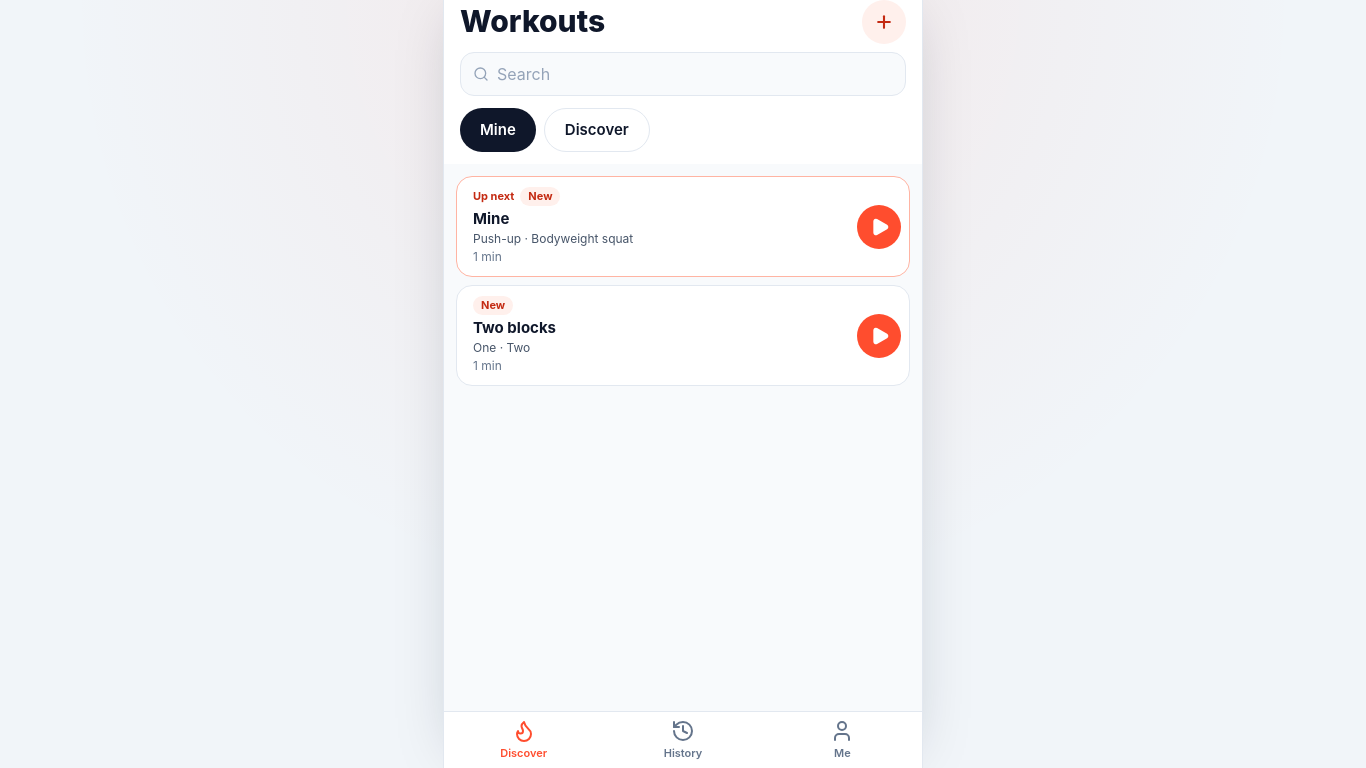
where a session was started from › is saved for a Mine card that is not Up next
Click the button "Two blocks New One · Two 1 min".
click(515, 327)  # box [457,286,849,385]
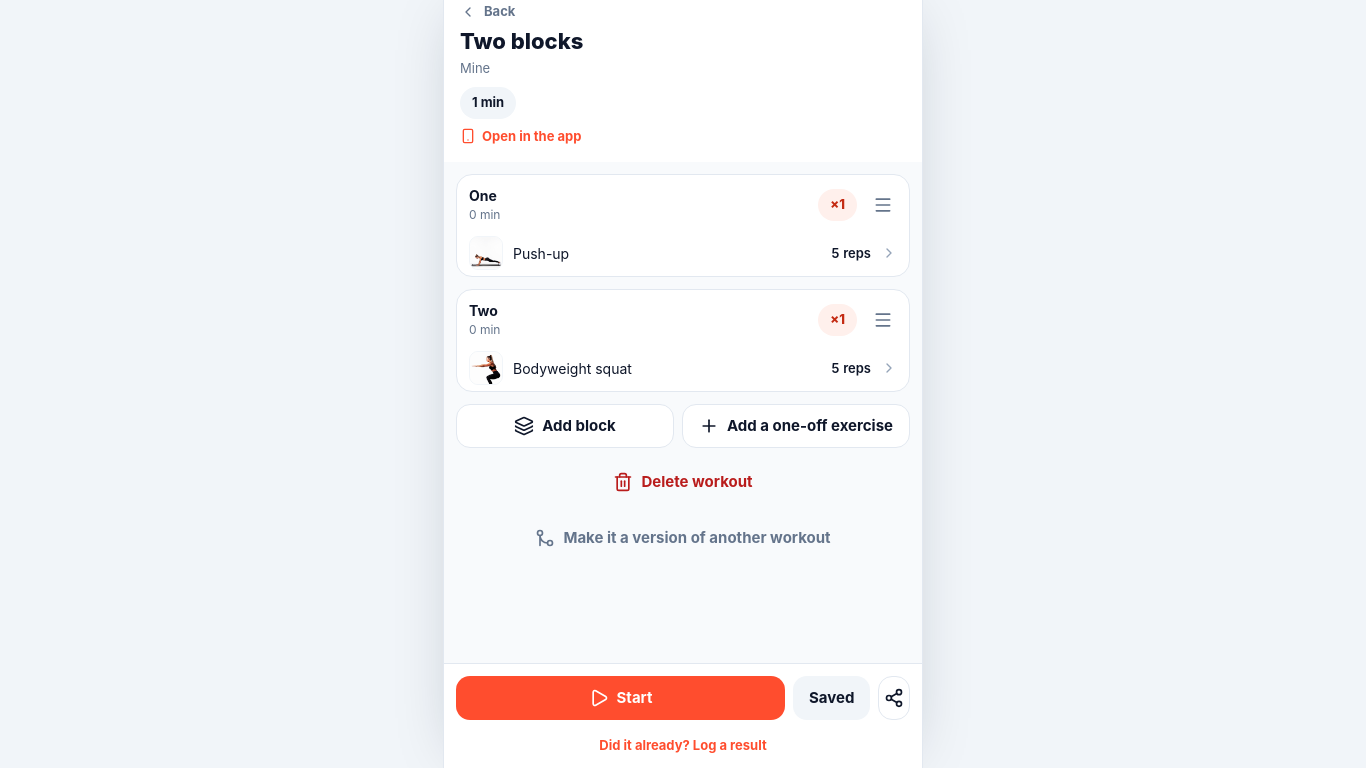
Click the button "Start".
click(620, 698)  # box [456,676,785,720]
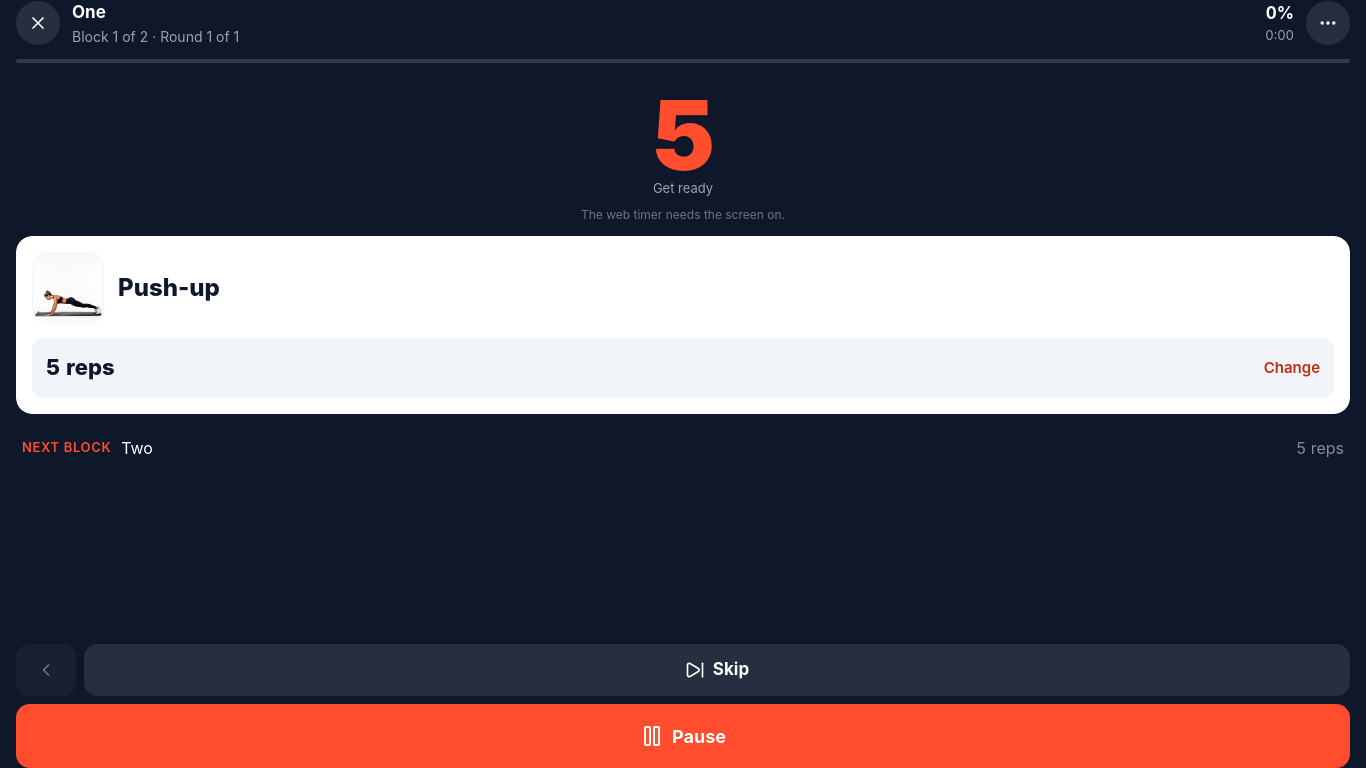
Click the button "Skip".
click(717, 670)  # box [84,644,1350,696]
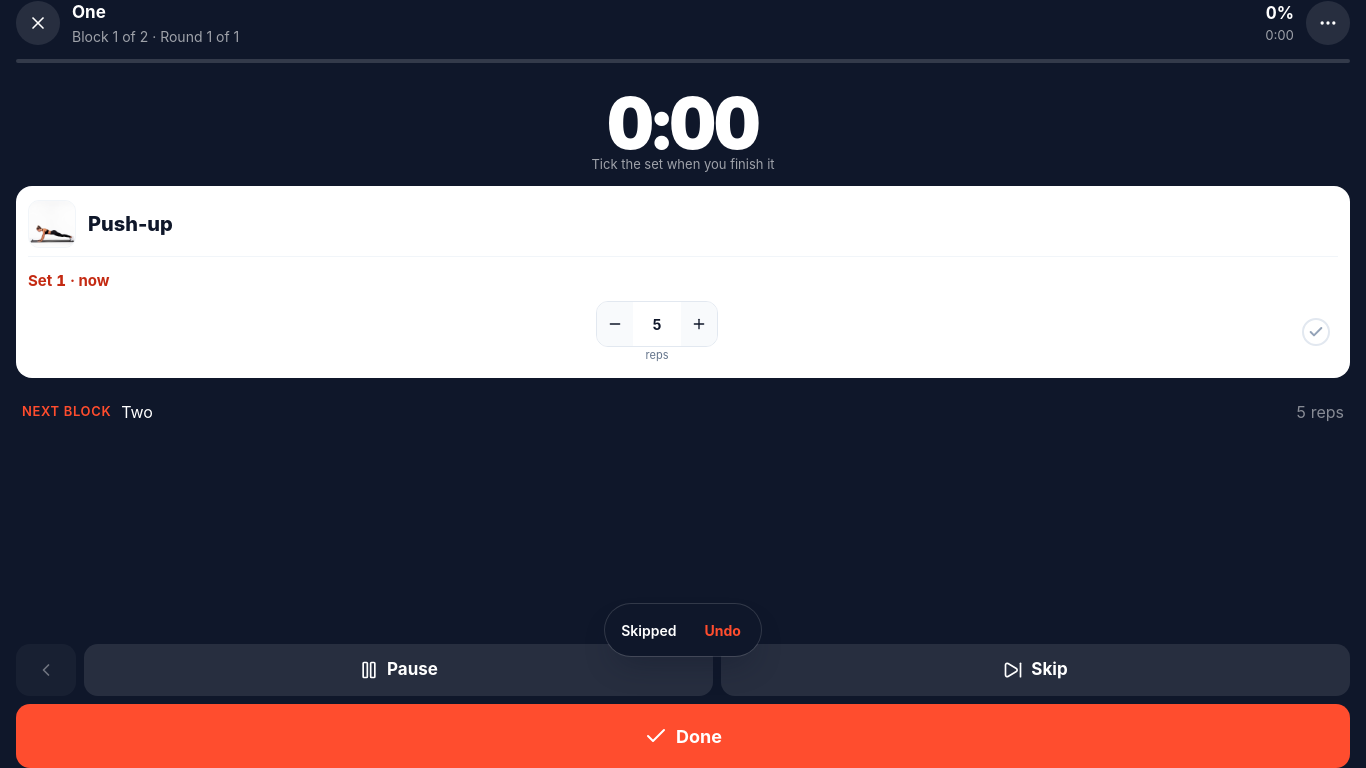
Click the button named "More".
click(1328, 23)  # box [1306,1,1350,45]
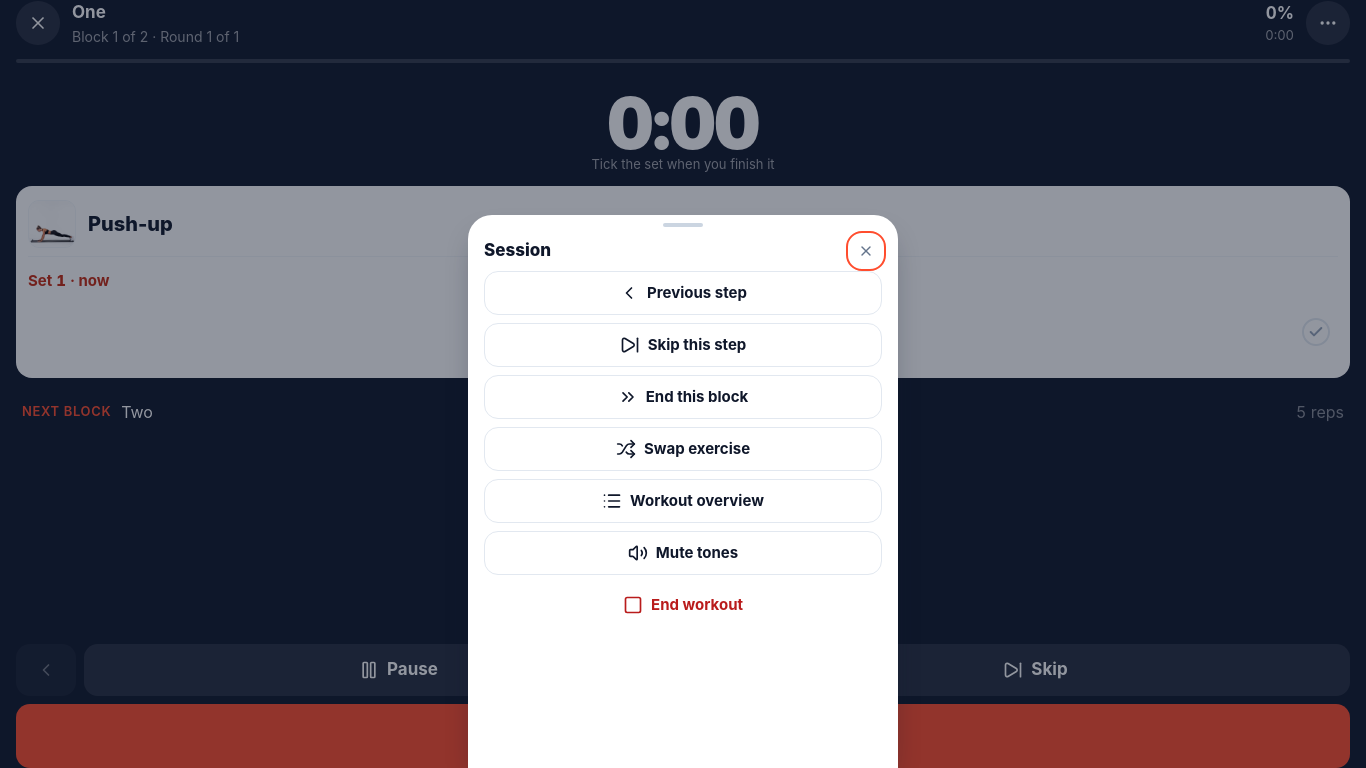
Click the button "End workout".
click(683, 605)  # box [484,583,882,627]
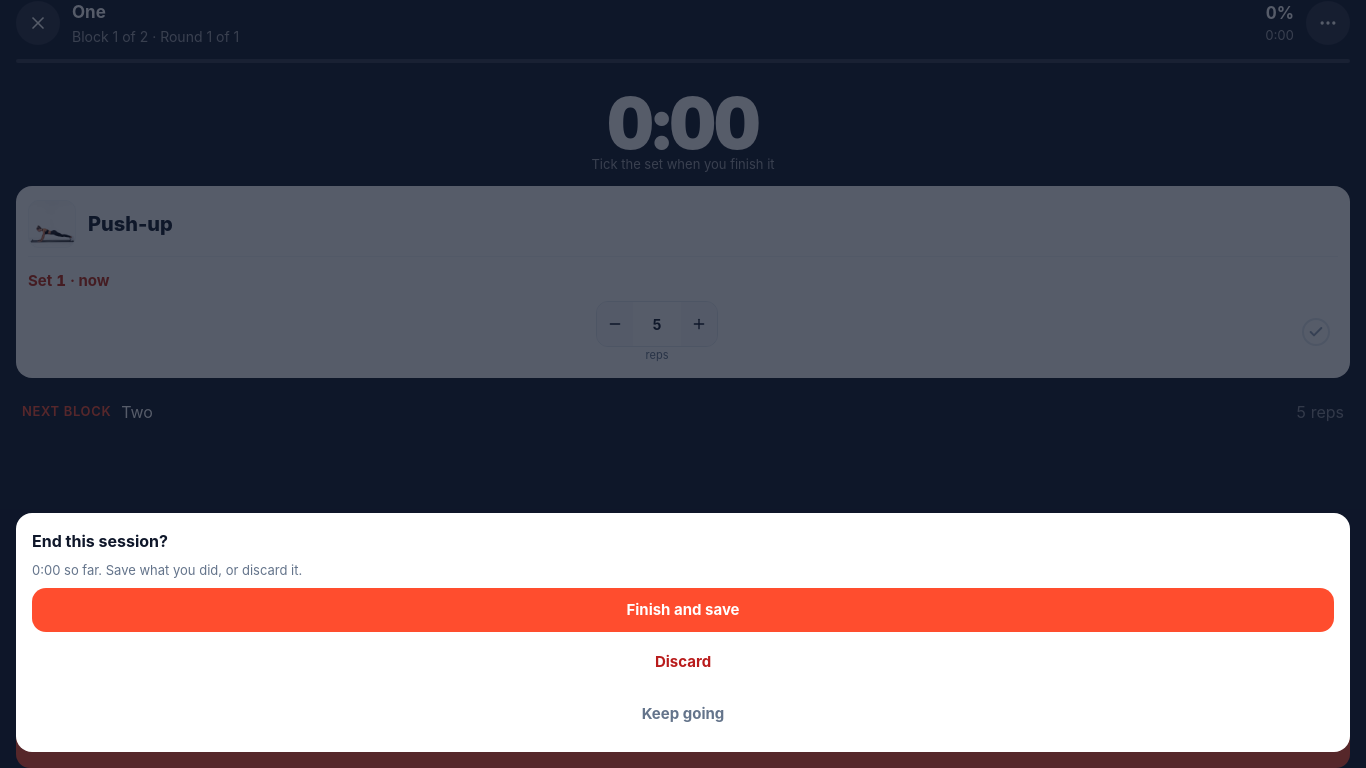
Click the button "Finish and save".
click(683, 610)  # box [32,588,1334,632]
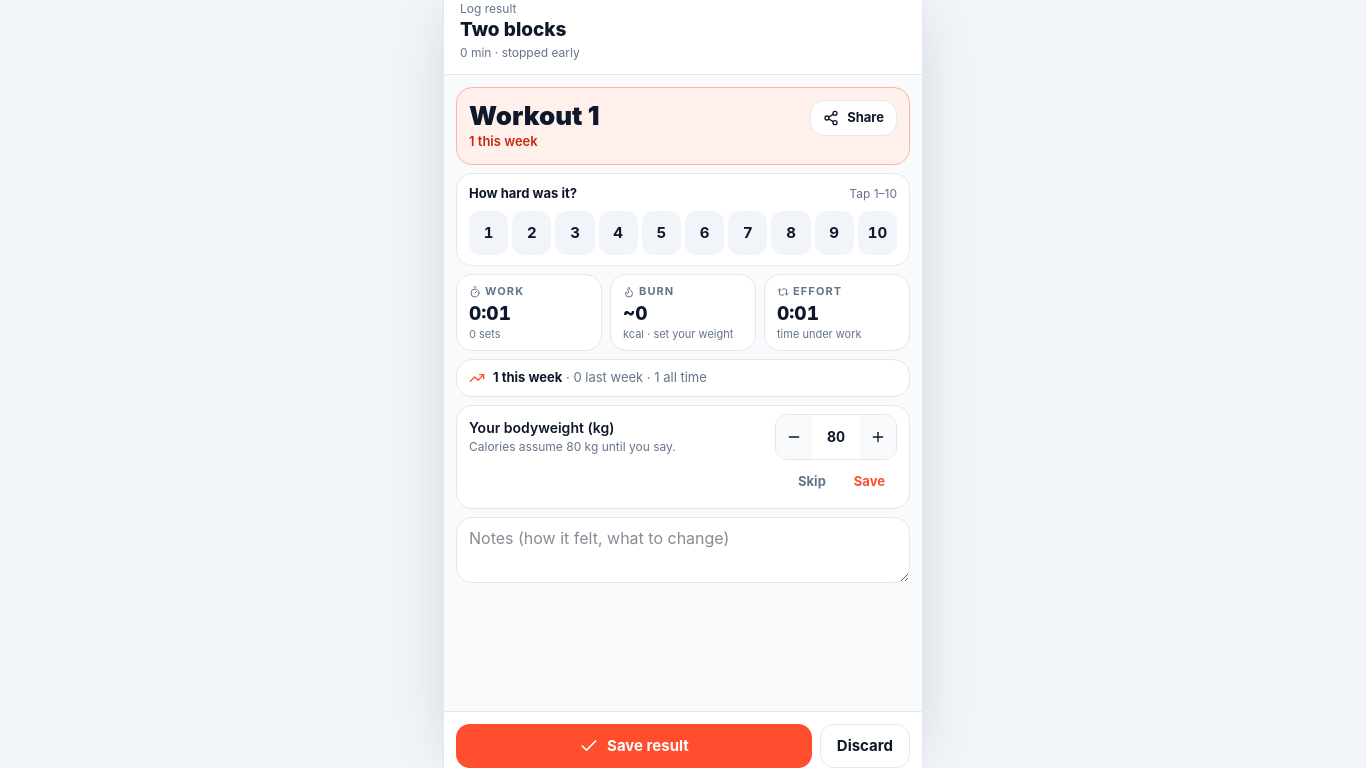
Result: the button "Save result" is shown at [456,724,812,767]
